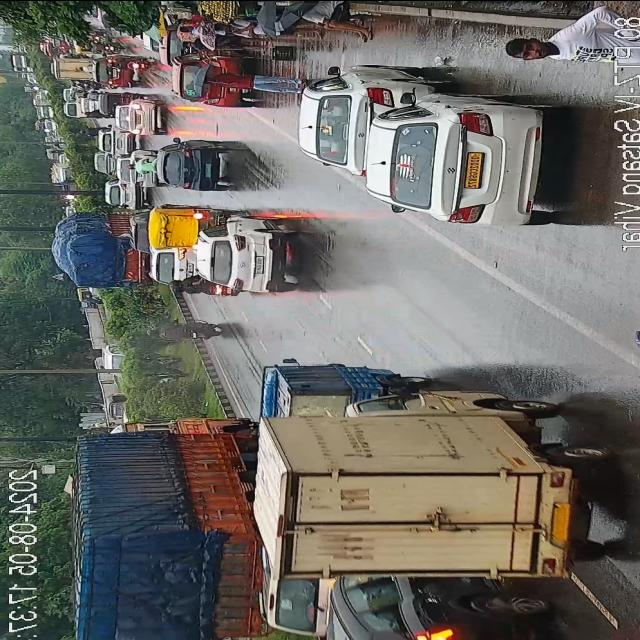2-wheelers: (142, 316, 226, 344), (165, 280, 237, 298), (126, 159, 161, 173), (108, 60, 152, 70), (87, 41, 124, 52), (78, 126, 100, 136), (78, 64, 94, 72)
auto: (260, 361, 410, 404), (150, 203, 214, 251), (56, 54, 96, 82), (65, 94, 95, 120), (96, 91, 133, 110)
car: (368, 94, 552, 225), (322, 579, 562, 640), (297, 67, 417, 172), (194, 216, 294, 294), (175, 54, 257, 106), (266, 578, 332, 640), (160, 137, 230, 193), (122, 96, 164, 136), (150, 245, 194, 278), (107, 175, 147, 211), (112, 126, 138, 158), (92, 149, 116, 177), (98, 128, 118, 158)
pedestrian: (499, 10, 640, 67), (302, 1, 376, 41), (207, 21, 326, 38), (200, 74, 298, 94), (182, 38, 268, 52), (180, 16, 202, 26), (181, 24, 207, 32)
truck: (261, 402, 601, 580), (71, 416, 272, 640), (61, 210, 150, 285)
